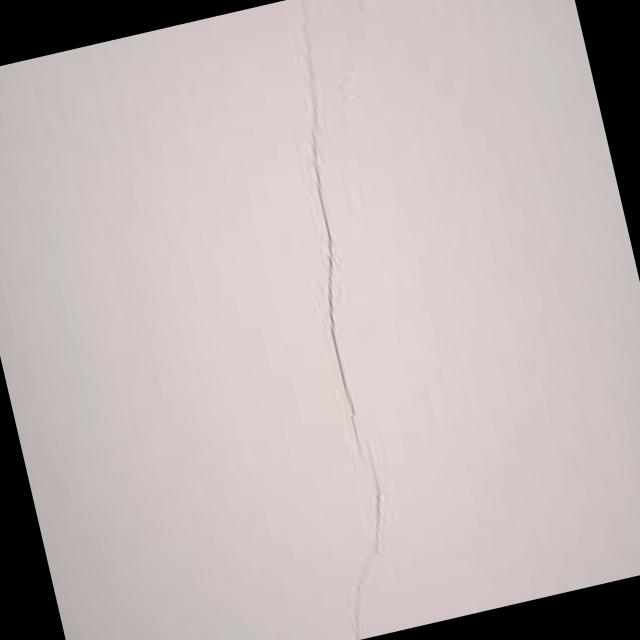crack: (206, 0, 435, 638)
